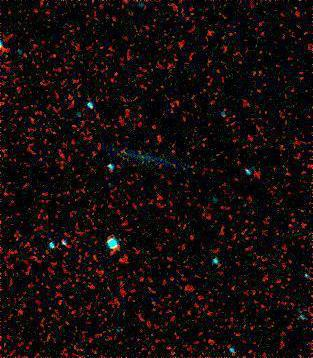star: (144, 124, 174, 154)
